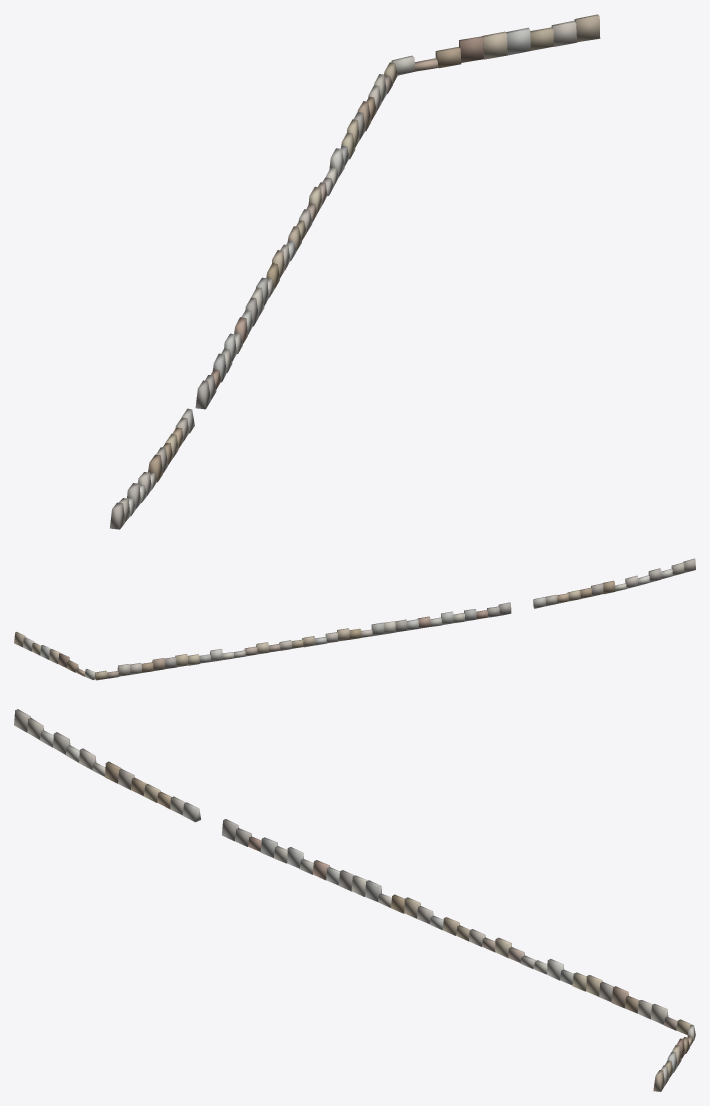
File: farm_-3_-4_far.glb
3 renders of one model, top to bottom at view 1: azimuth 30°, elevation 25°; view 2: azimuth 150°, elevation 25°; view 3: azimuth 270°, elevation 25°, orthographic. The views are drawn at different scales.
Visible parts, largest first — view 1: geometry_0; view 2: geometry_0; view 3: geometry_0.
Boxes of the visible parts, x1=… form: geometry_0: x1=110, y1=14, x2=600, y2=529; geometry_0: x1=14, y1=558, x2=695, y2=680; geometry_0: x1=14, y1=709, x2=695, y2=1091.
Bounding box in the file's own units: 70.73 × 6.09 × 61.6.
